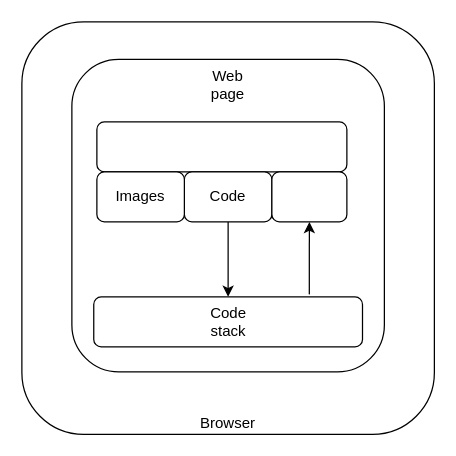
Some shapes in this 456 by 456 pixel diagram are drawn without their labels. The box of each missing label's shape, as (x1, y1, x2, y2) in pixels:
Code output: (271, 171, 347, 222)
Text: (96, 121, 347, 172)
